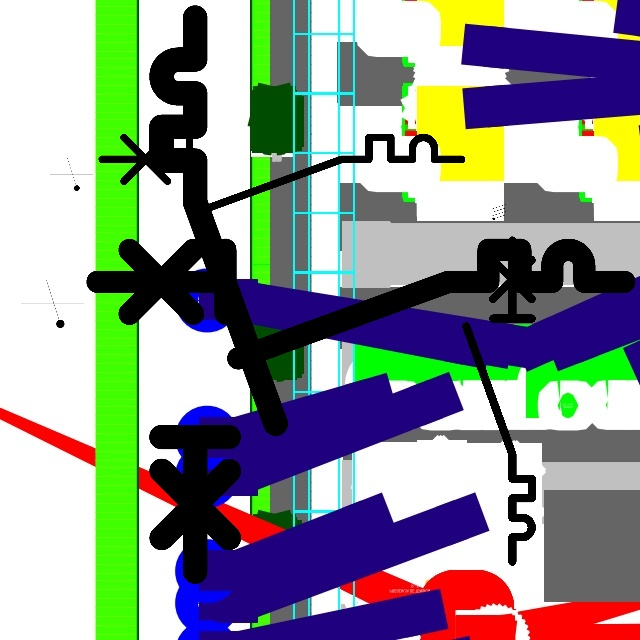interruptor_termomagnetico: (147, 3, 289, 586), (83, 236, 638, 372), (92, 128, 471, 220), (458, 232, 540, 570)
